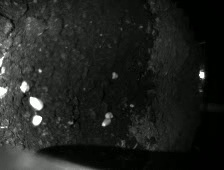corn: (29, 96, 44, 111), (32, 115, 42, 127), (101, 118, 112, 127), (105, 111, 113, 118), (112, 72, 119, 79)
